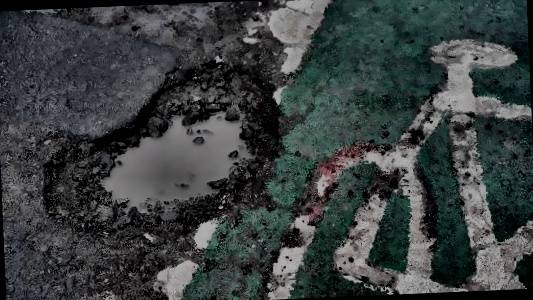pothole: (37, 56, 292, 246)
